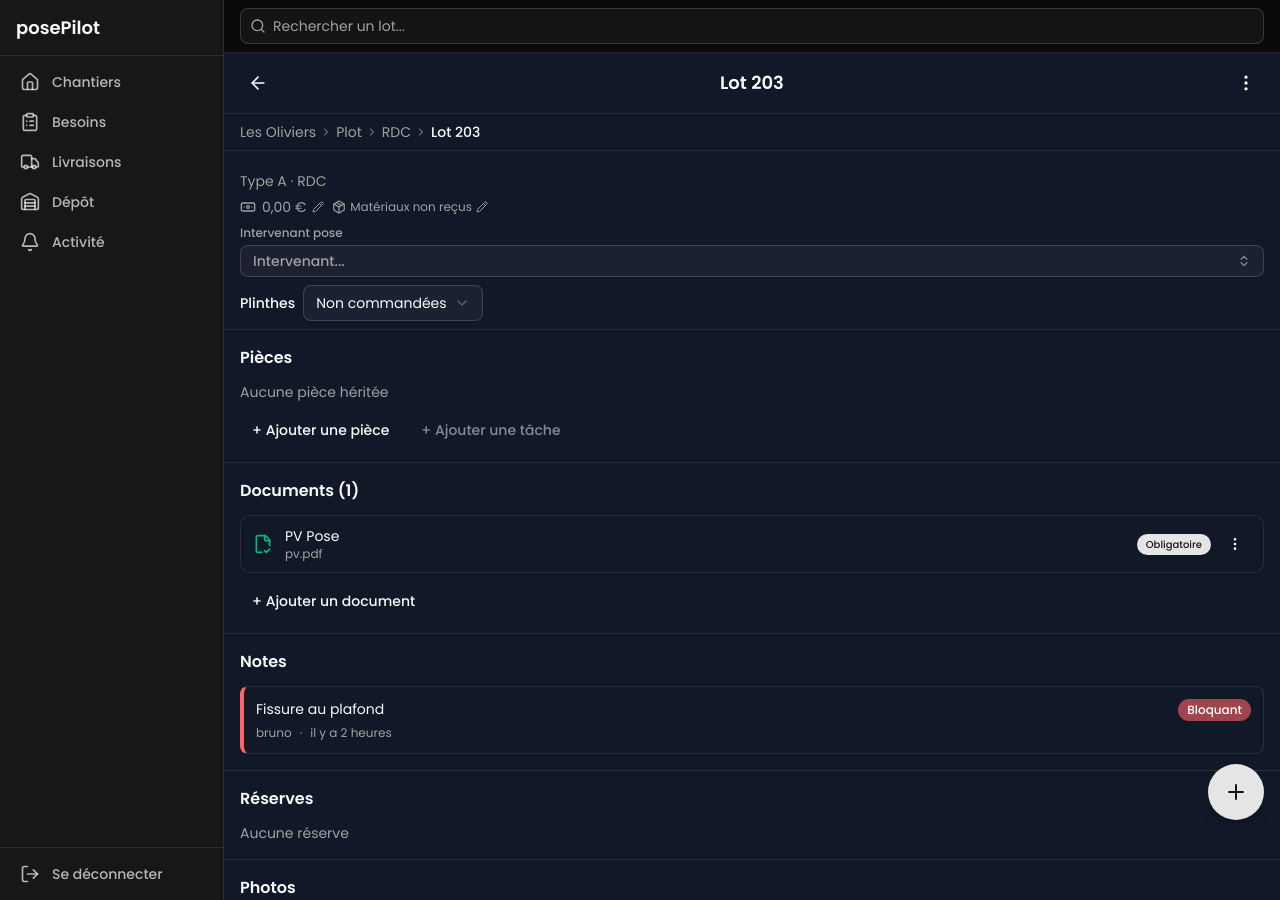
Test: LotIndexPage — Notes integration › opens NoteForm when Note menu item is clicked
The image size is (1280, 900).
Expected: the heading "Lot 203" is shown, x1=720 y1=69 x2=784 y2=97
What coordinates should you click on to do the following:
click the button named "Ajouter"
I would click on:
 (1236, 792)
Its box is x1=1208 y1=764 x2=1264 y2=820.
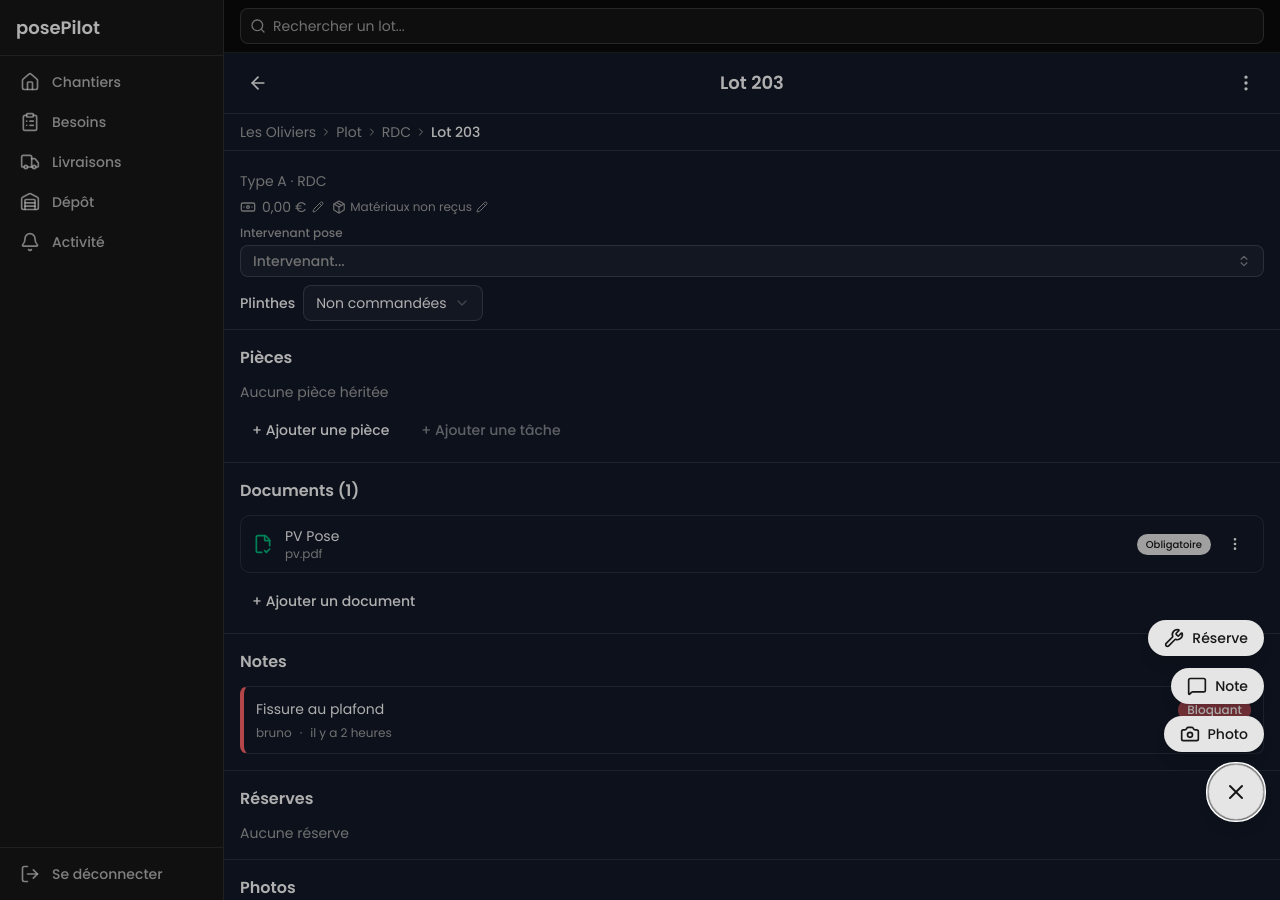
What coordinates should you click on to do the following:
click the button "Note"
I would click on:
 (1218, 686)
Its box is x1=1171 y1=668 x2=1264 y2=704.
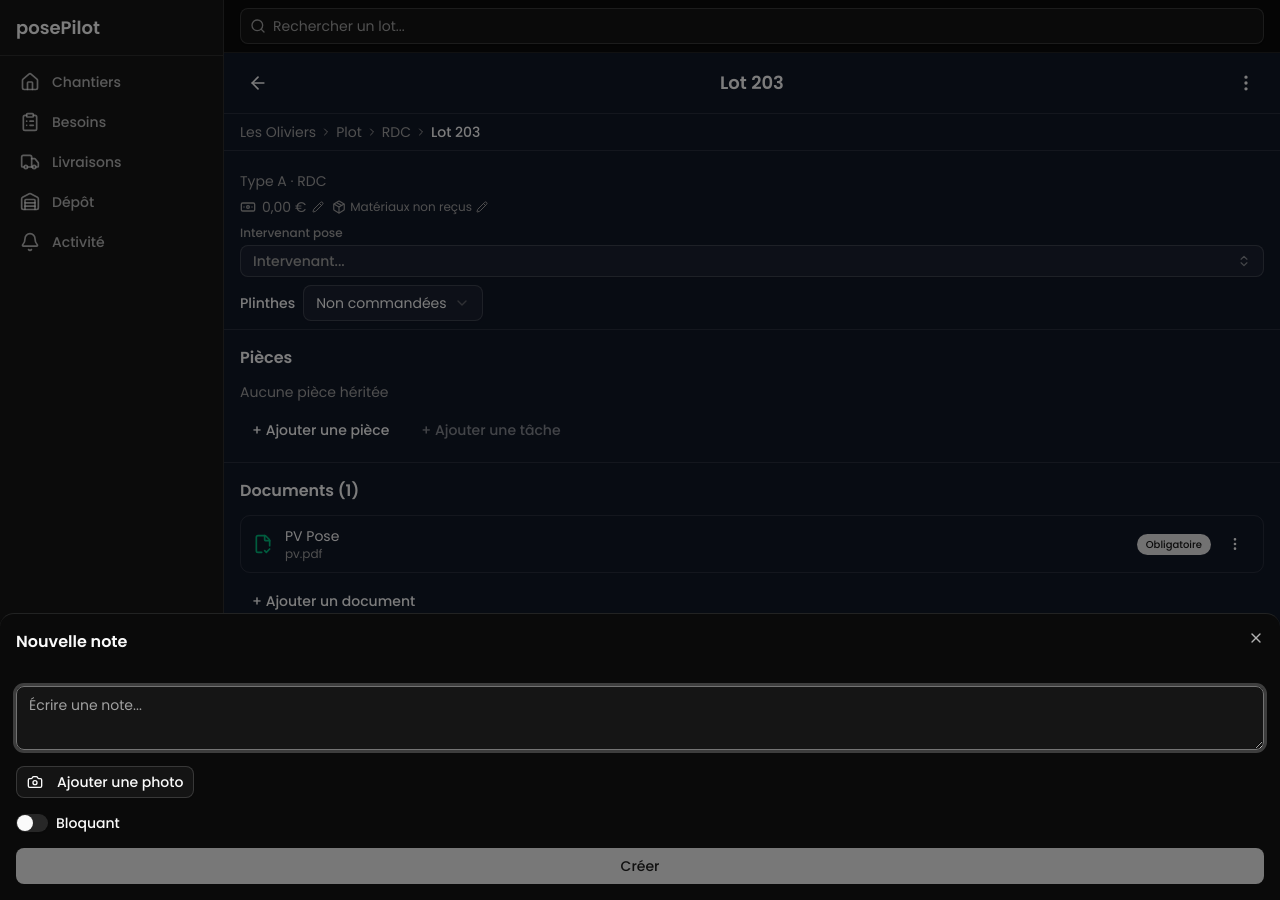
Expected: the heading "Nouvelle note" is shown, x1=16 y1=630 x2=128 y2=653
Expected: the text box with placeholder "Écrire une note..." is shown, x1=16 y1=686 x2=1264 y2=750
